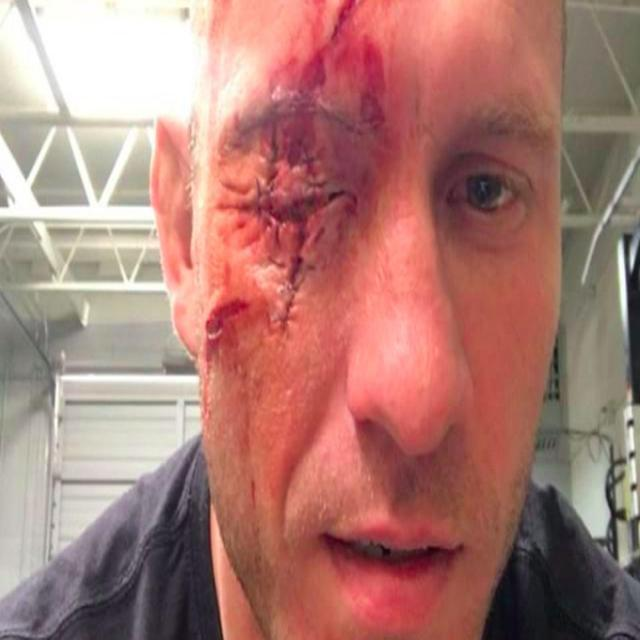flood: (238, 0, 382, 324)
